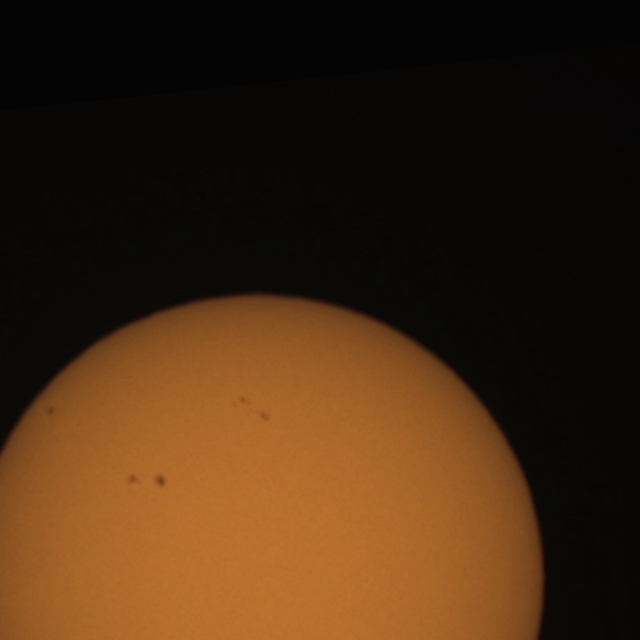sunspot: (232, 395, 272, 424), (126, 470, 168, 490), (153, 473, 168, 490), (126, 472, 142, 487), (44, 404, 57, 419), (237, 395, 248, 408)
